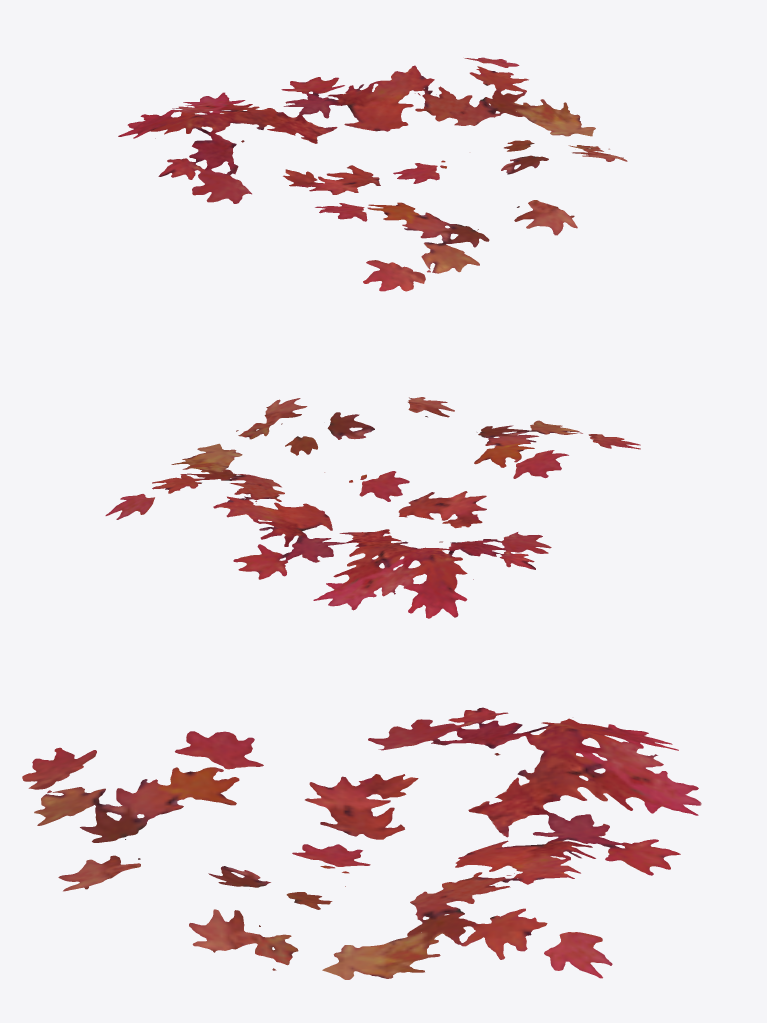
Rendered from XCZ_Decal_maple.FBX.
3 views of the same model, one above another, from view 1: azimuth 30°, elevation 25°; view 2: azimuth 150°, elevation 25°; view 3: azimuth 270°, elevation 25° (orthographic). The views are drawn at different scales.
Parts seen in each view (by area): view 1: XCZ_Decal_maple; view 2: XCZ_Decal_maple; view 3: XCZ_Decal_maple.
Boxes of the visible parts, left/top/right/bottom form: XCZ_Decal_maple: left=118, top=57, right=627, bottom=291; XCZ_Decal_maple: left=105, top=397, right=640, bottom=618; XCZ_Decal_maple: left=22, top=707, right=701, bottom=979.
Size of the model in its own units: 44.05 by 2.92 by 43.78.
